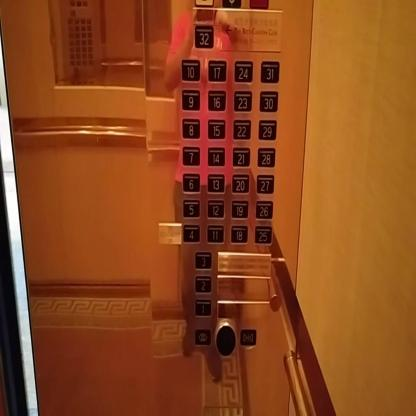1: (194, 298, 212, 317)
10: (181, 58, 201, 82)
11: (206, 223, 224, 244)
12: (207, 198, 224, 219)
13: (207, 172, 225, 194)
14: (207, 146, 226, 166)
15: (207, 117, 226, 140)
16: (208, 89, 226, 111)
17: (207, 59, 227, 83)
18: (230, 224, 248, 244)
19: (231, 198, 249, 219)
2: (194, 274, 212, 293)
20: (231, 173, 250, 194)
21: (232, 146, 251, 167)
22: (233, 118, 251, 140)
23: (233, 90, 252, 112)
24: (233, 59, 254, 84)
25: (254, 224, 272, 245)
26: (256, 199, 274, 220)
27: (256, 173, 275, 194)
28: (256, 146, 276, 168)
29: (258, 118, 277, 141)
3: (194, 250, 212, 270)
30: (259, 90, 278, 112)
31: (260, 59, 280, 84)
32: (194, 24, 214, 49)
4: (182, 223, 200, 243)
5: (183, 198, 200, 218)
6: (182, 172, 201, 194)
7: (182, 145, 201, 167)
8: (181, 117, 201, 140)
9: (181, 88, 201, 112)
close: (240, 328, 256, 346)
empty: (215, 320, 237, 359)
open: (194, 327, 212, 346)
